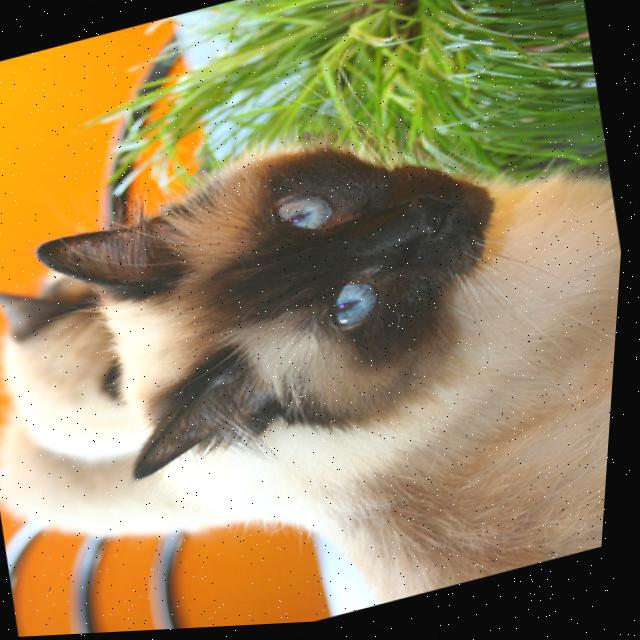Birman: (1, 67, 635, 639)
